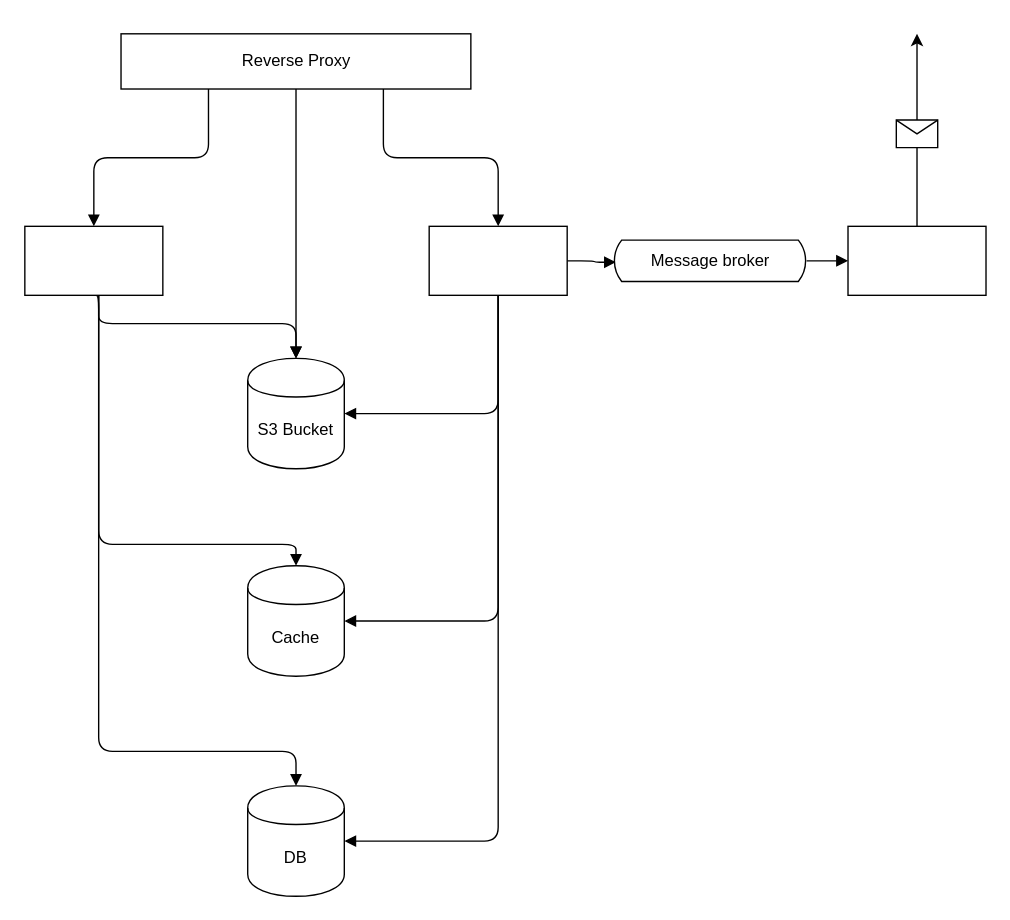
This 1010x920 diagram has some shape labels left out. The shapes that lost their labels are listed below. From the top down, each one's centre as x and y in pixels, then its label:
At (93,260): "Admin Service".
At (497,260): "АPI".
At (916,260): "Email Service".
